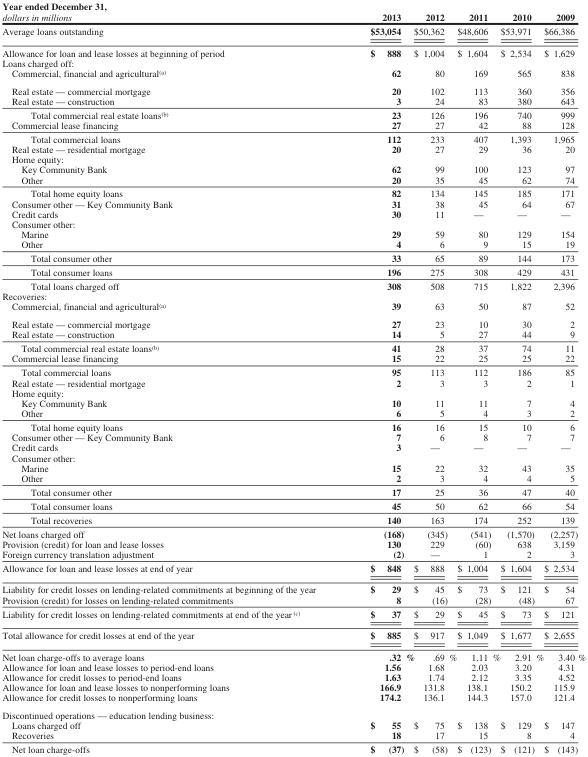table: (1, 0, 585, 754)
table column: (1, 0, 342, 754), (342, 0, 413, 754), (499, 0, 543, 754), (413, 0, 456, 754), (456, 0, 499, 754), (543, 0, 585, 754)
table column header: (1, 0, 585, 23)
table projected row header: (1, 705, 585, 719), (1, 57, 585, 67), (1, 153, 585, 163), (1, 218, 585, 228), (1, 291, 585, 301), (1, 387, 585, 397), (1, 452, 585, 462)
table row: (1, 0, 585, 23), (1, 624, 585, 645), (1, 23, 585, 41), (1, 560, 585, 578), (1, 606, 585, 624), (1, 41, 585, 57), (1, 578, 585, 594), (1, 645, 585, 661), (1, 67, 585, 81), (1, 81, 585, 95), (1, 250, 585, 264), (1, 264, 585, 278), (1, 314, 585, 328), (1, 484, 585, 498), (1, 498, 585, 512), (1, 512, 585, 526), (1, 691, 585, 705), (1, 705, 585, 719), (1, 278, 585, 291), (1, 301, 585, 314), (1, 340, 585, 353), (1, 741, 585, 754), (1, 95, 585, 107), (1, 107, 585, 119), (1, 119, 585, 131), (1, 131, 585, 143), (1, 174, 585, 186), (1, 186, 585, 198), (1, 238, 585, 250), (1, 328, 585, 340), (1, 353, 585, 365), (1, 365, 585, 377), (1, 407, 585, 419), (1, 419, 585, 431), (1, 472, 585, 484), (1, 526, 585, 538), (1, 548, 585, 560), (1, 594, 585, 606), (1, 729, 585, 741), (1, 163, 585, 174), (1, 441, 585, 452), (1, 57, 585, 67), (1, 143, 585, 153), (1, 153, 585, 163), (1, 198, 585, 208), (1, 208, 585, 218), (1, 218, 585, 228), (1, 228, 585, 238), (1, 291, 585, 301), (1, 377, 585, 387), (1, 387, 585, 397), (1, 397, 585, 407), (1, 431, 585, 441), (1, 452, 585, 462), (1, 462, 585, 472), (1, 538, 585, 548), (1, 661, 585, 671), (1, 671, 585, 681), (1, 681, 585, 691), (1, 719, 585, 729)
